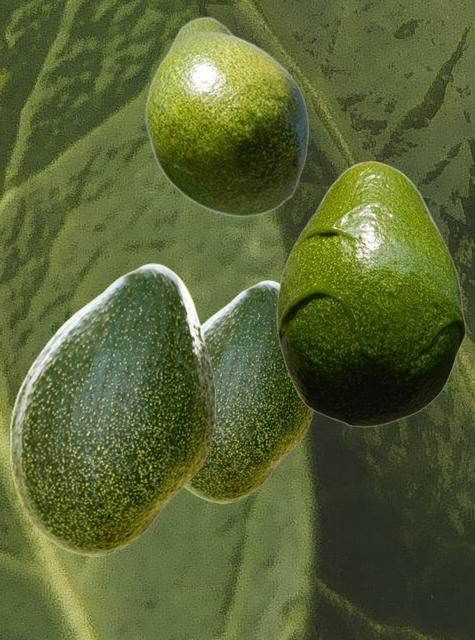avocado: (9, 263, 214, 555), (276, 160, 465, 426), (144, 16, 308, 217), (185, 280, 314, 502)
